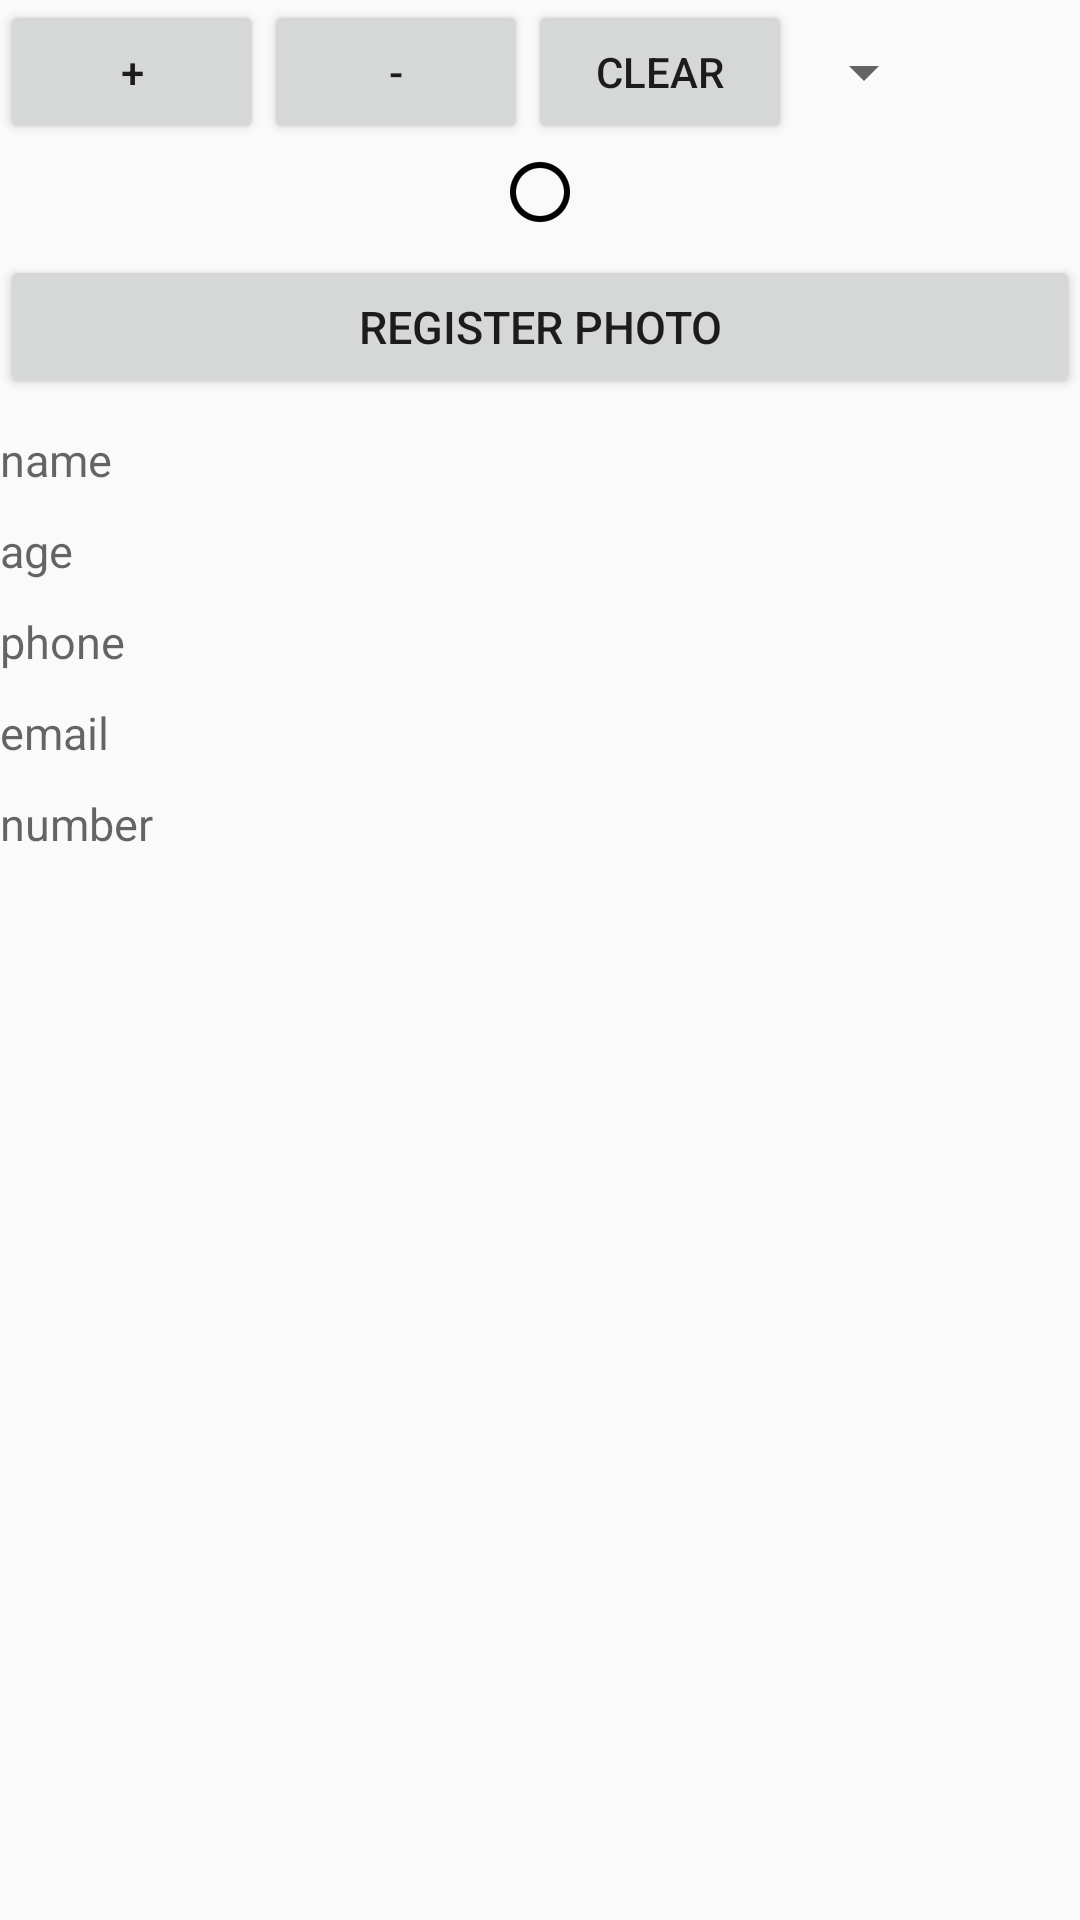

Icon click points for this 1080x1920 phone screenshot, format point (x, y):
radio: point (540, 192)
